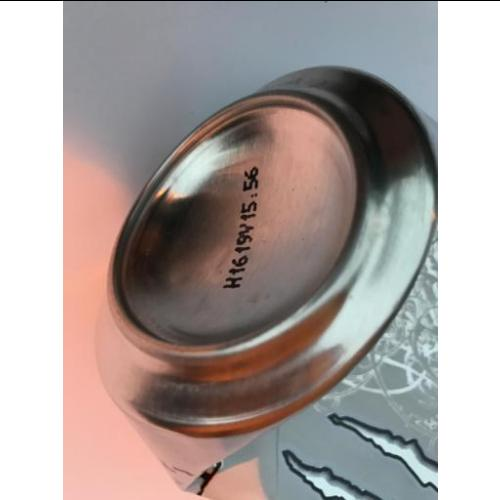metal: (110, 69, 437, 499)
